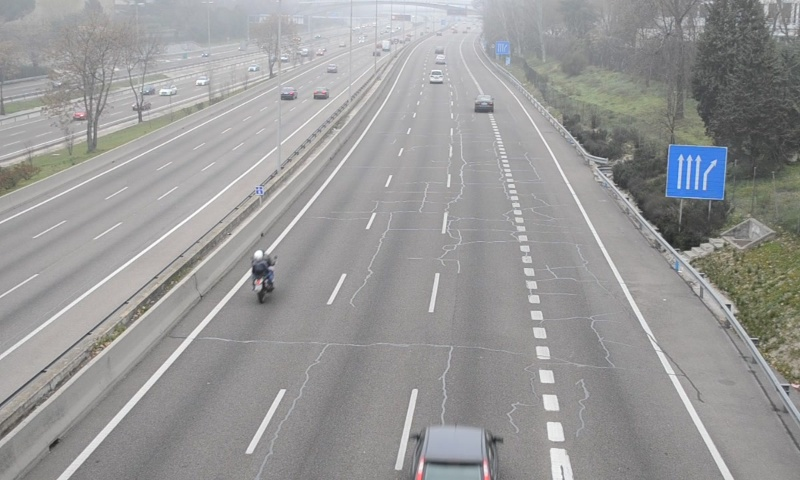car: (410, 424, 497, 480), (473, 94, 493, 112), (428, 70, 444, 85)
motorcycle: (248, 249, 276, 304)
